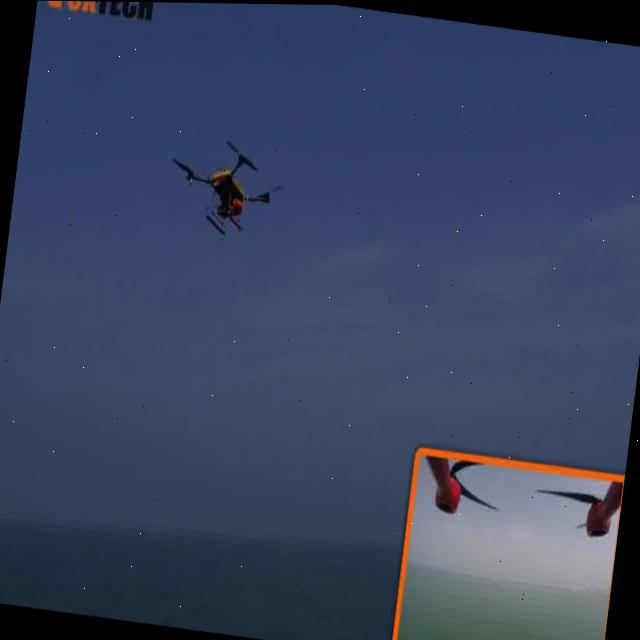drone: (148, 118, 284, 256)
